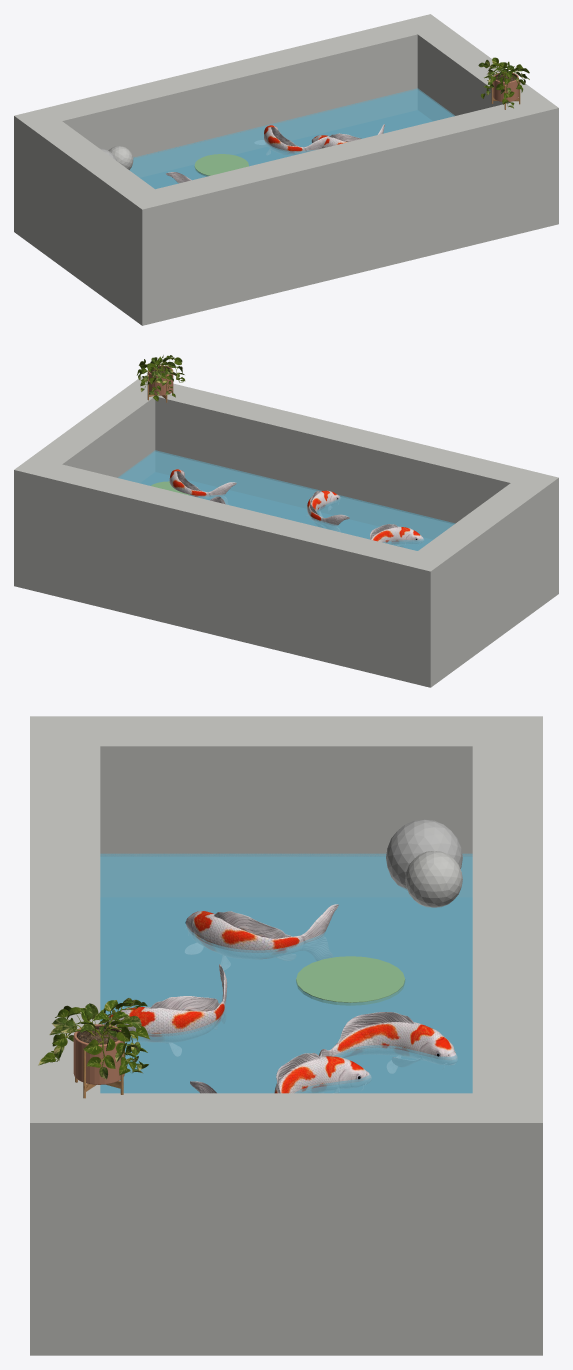
File: fish_pond.glb
3 views of the same model, one above another, from view 1: azimuth 30°, elevation 25°; view 2: azimuth 150°, elevation 25°; view 3: azimuth 270°, elevation 25° (orthographic). The views are drawn at different scales.
Parts seen in each view (by area): view 1: simple_c4, textured_0, simple_c0, pothos_0_n5, koi_0_n1, simple_c1, pothos_1_n5, koi_0_n4; view 2: simple_c4, textured_0, simple_c0, pothos_0_n5, koi_0_n3, koi_0_n0, koi_0_n2, pothos_1_n5; view 3: simple_c4, textured_0, simple_c0, koi_0_n0, koi_0_n1, pothos_0_n5, simple_c1, koi_0_n3, koi_0_n4, simple_c2, simple_c3, pothos_1_n5.
Part boxes in pixels (x1,y1,x2,y2): simple_c4: (14,14,558,325); textured_0: (129,88,454,189); simple_c0: (141,110,431,188); pothos_0_n5: (478,57,529,108); koi_0_n1: (255,125,328,155); simple_c1: (194,154,248,176); pothos_1_n5: (491,72,520,109); koi_0_n4: (311,124,384,148); simple_c4: (14,376,558,687); textured_0: (118,450,455,550); simple_c0: (141,472,431,550); pothos_0_n5: (136,355,185,401); koi_0_n3: (307,490,349,531); koi_0_n0: (370,524,423,546); koi_0_n2: (169,469,236,504); pothos_1_n5: (147,365,173,402); simple_c4: (30,716,542,1355); textured_0: (100,853,472,1093); simple_c0: (101,898,471,1092); koi_0_n0: (185,904,338,969); koi_0_n1: (319,1012,457,1073); pothos_0_n5: (38,998,150,1079); simple_c1: (296,956,405,1005); koi_0_n3: (102,964,227,1056); koi_0_n4: (274,1053,371,1093); simple_c2: (386,819,462,891); simple_c3: (405,851,462,907); pothos_1_n5: (73,1024,124,1098).
Bounding box in the file's own units: 3 × 1.09 × 1.6.
Materials: 9 (3 with a texture image).
